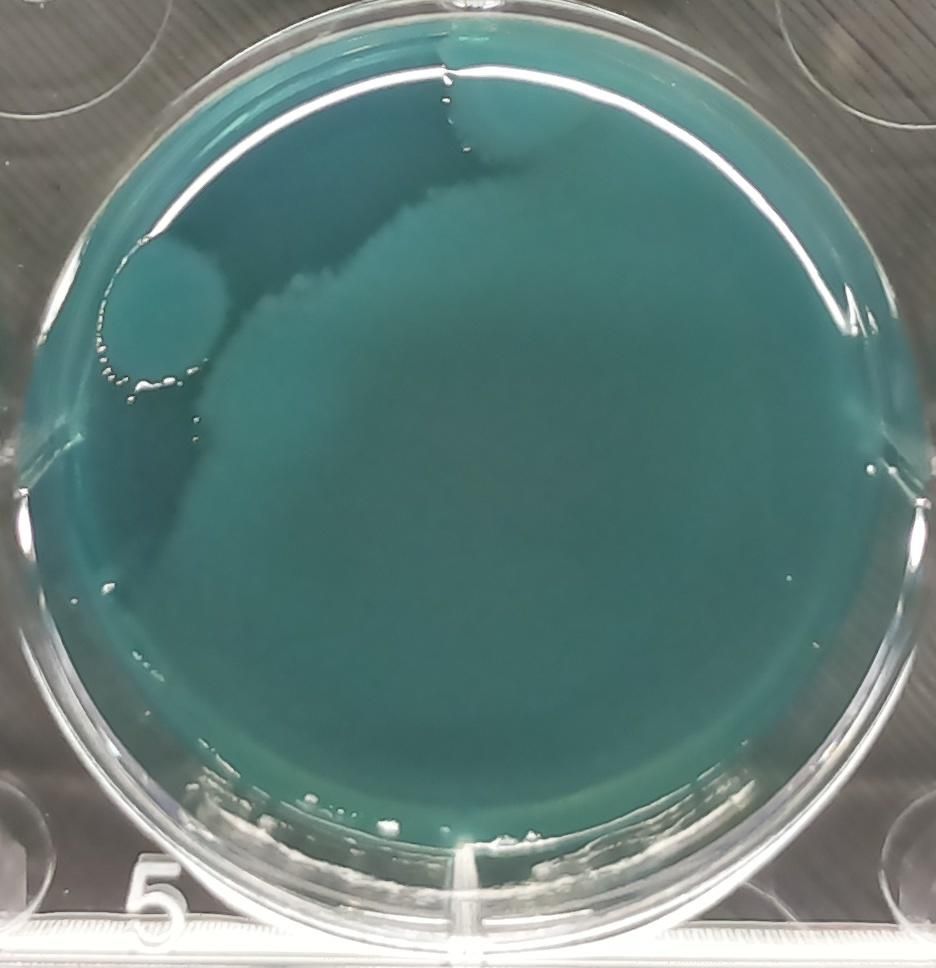vproteolyticus: (420, 15, 590, 179), (80, 227, 234, 395)
